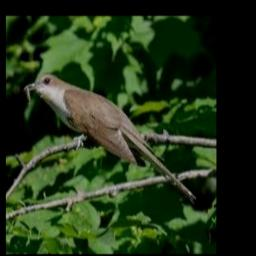Cuckoo: (25, 73, 197, 204)
